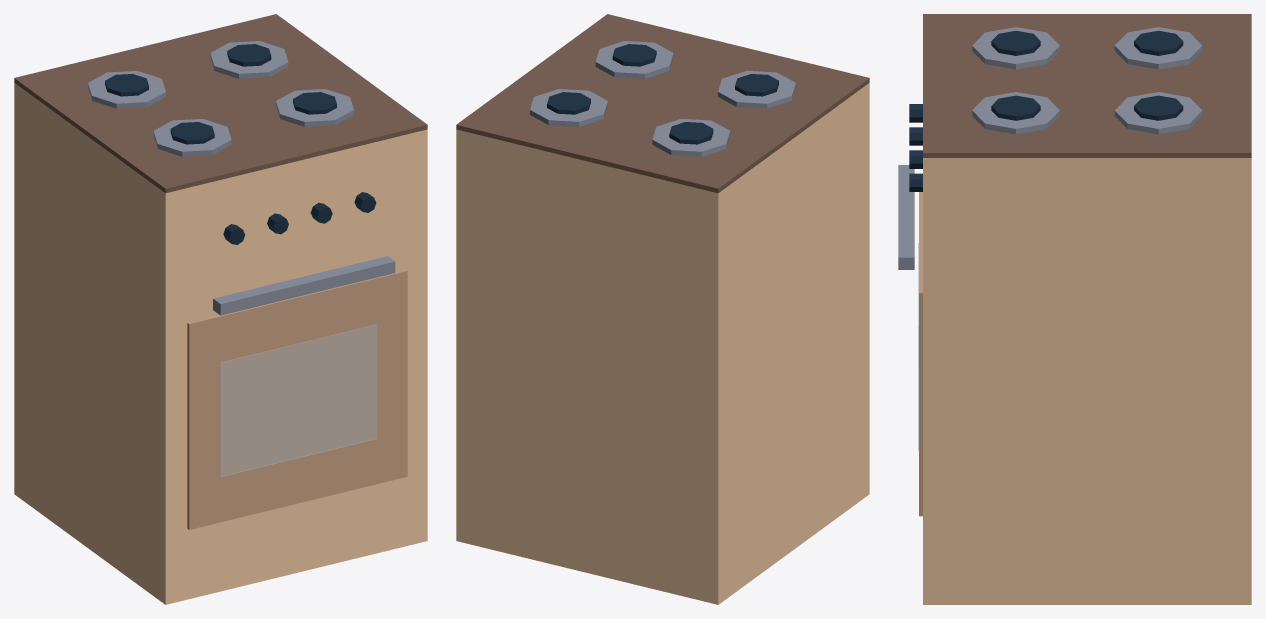
The model's file is Stove.fbx.
3 views of the same model, side by side, from view 1: azimuth 30°, elevation 25°; view 2: azimuth 150°, elevation 25°; view 3: azimuth 270°, elevation 25° (orthographic). The views are drawn at different scales.
Visible parts, largest first — view 1: Stove; view 2: Stove; view 3: Stove.
Boxes of the visible parts, left/top/right/bottom form: Stove: left=14, top=14, right=427, bottom=604; Stove: left=456, top=14, right=869, bottom=604; Stove: left=898, top=14, right=1251, bottom=604.
Size of the model in its own units: 0.6 by 0.93 by 0.645.
2 materials, 1 textured.
